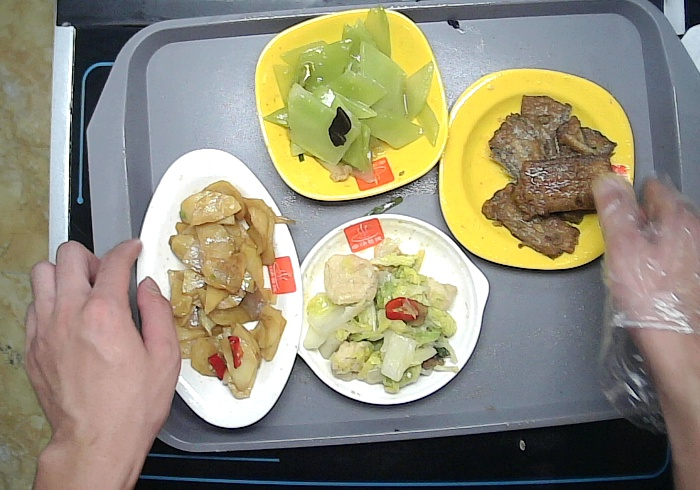SHKJ-Bao_Yu_Pan: (290, 212, 490, 405)
SHKJ-Huang_Se_Cai_Die: (253, 7, 450, 202)
SHKJ-Huang_Se_Si_Fang_Cai_Die: (437, 67, 636, 273)
SHKJ-Yu_Pan: (133, 146, 305, 427)
